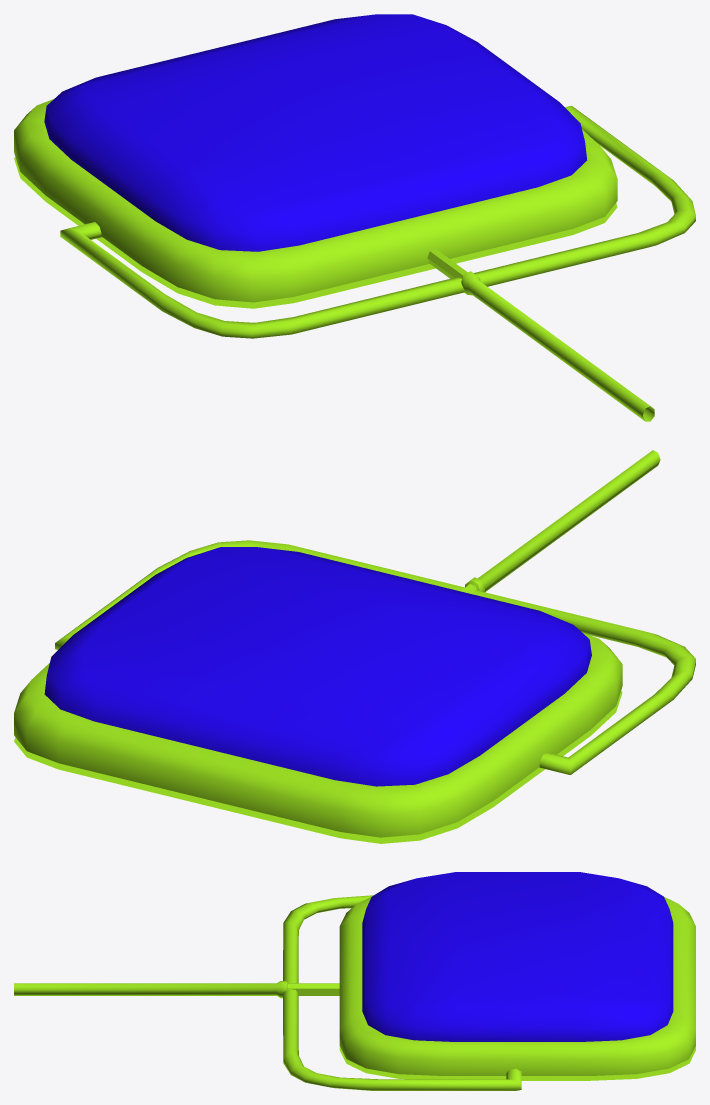
File: pantalla nueva.fbx
3 renders of one model, top to bottom at view 1: azimuth 30°, elevation 25°; view 2: azimuth 150°, elevation 25°; view 3: azimuth 270°, elevation 25°, orthographic. The views are drawn at different scales.
Parts seen in each view (by area): view 1: cristal, tv, tv2, tv3, Object005; view 2: cristal, tv, tv2, Object005, tv3; view 3: cristal, tv, tv2, tv3, Object005.
Boxes of the visible parts, bbox=[...] form: cristal: bbox=[44, 14, 587, 251]; tv: bbox=[14, 99, 617, 302]; tv2: bbox=[60, 106, 695, 338]; tv3: bbox=[427, 248, 654, 421]; Object005: bbox=[14, 157, 617, 308]; cristal: bbox=[44, 547, 591, 786]; tv: bbox=[14, 632, 622, 837]; tv2: bbox=[55, 540, 695, 774]; Object005: bbox=[14, 691, 622, 843]; tv3: bbox=[460, 450, 660, 594]; cristal: bbox=[362, 872, 673, 1041]; tv: bbox=[339, 897, 695, 1075]; tv2: bbox=[283, 895, 521, 1090]; tv3: bbox=[14, 981, 339, 998]; Object005: bbox=[339, 1046, 695, 1080].
Bounding box in the file's own units: 6.21 × 1.03 × 9.49.
